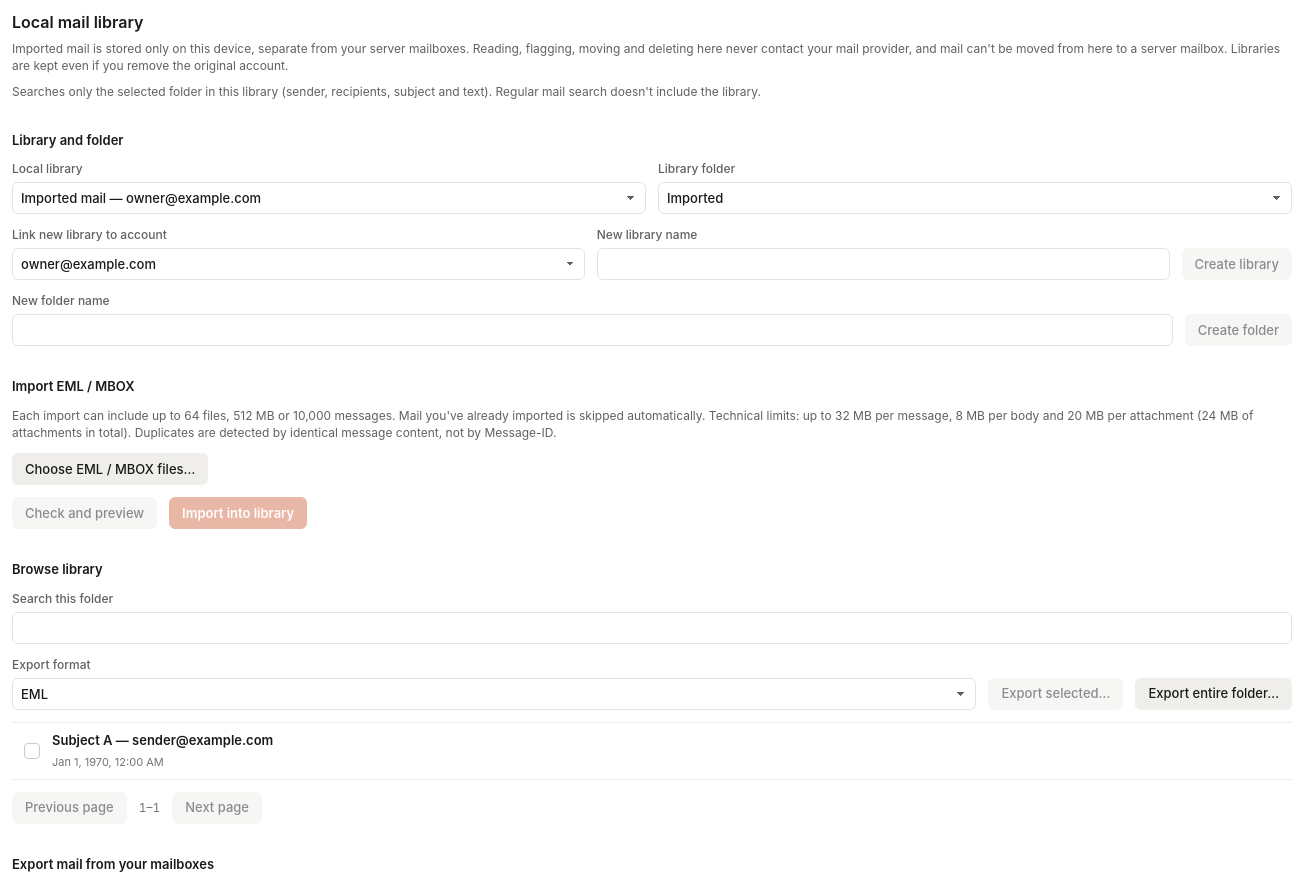
Test: Local mail archive browser › performs local flags/moves, confirms deletion, and clears deleted message selection
Later steps or results of the test are not shown.
Click the button "Subject A — sender@example.com Jan 1, 1970, 12:00 AM" at (82, 740), box [52,723,1292,779]
(page scrolled)
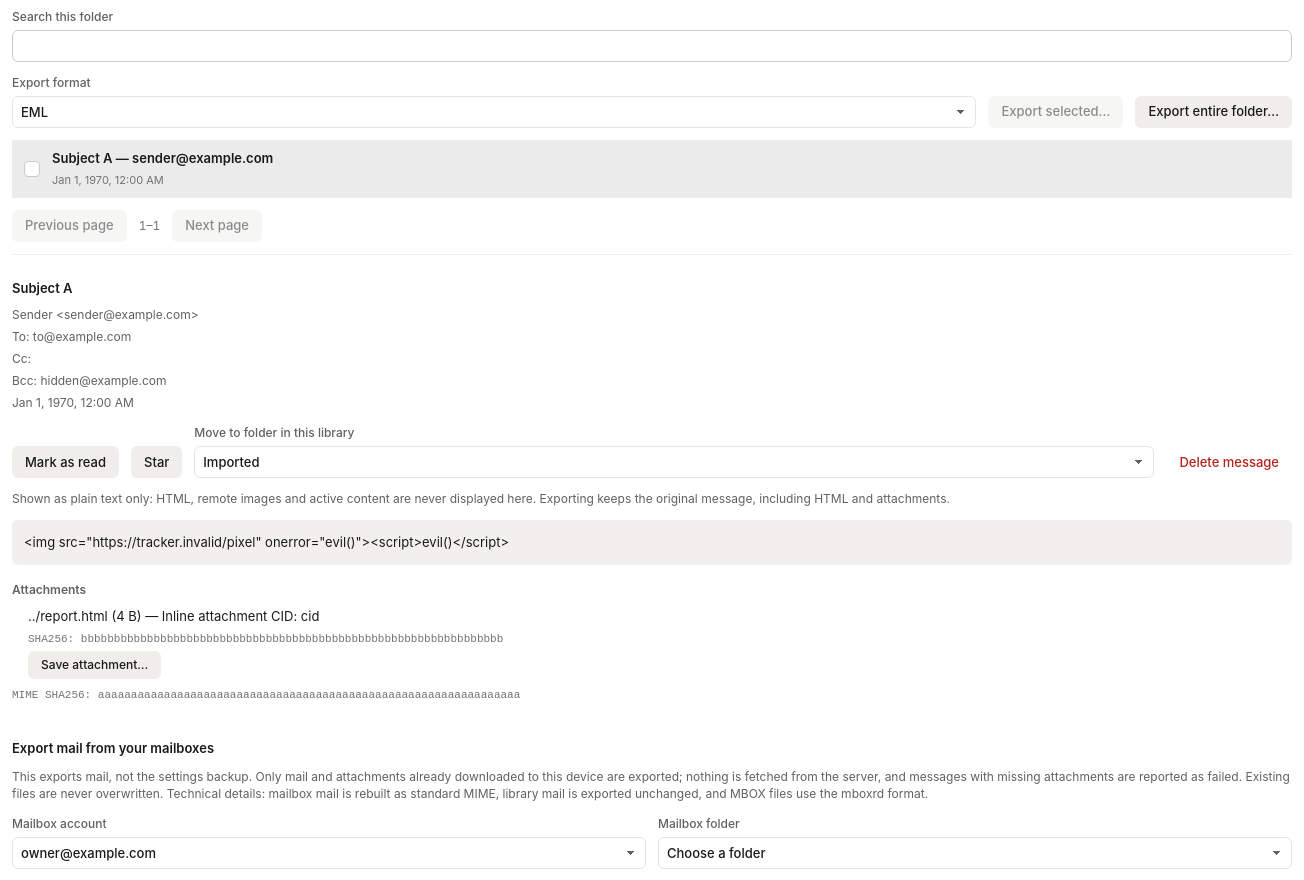
Now the element named "Selected message" is shown, box [12,254,1292,708]
Select "Other local folder" in the dropdown labelled "Move to folder in this library" at (674, 462), box [194,446,1154,478]
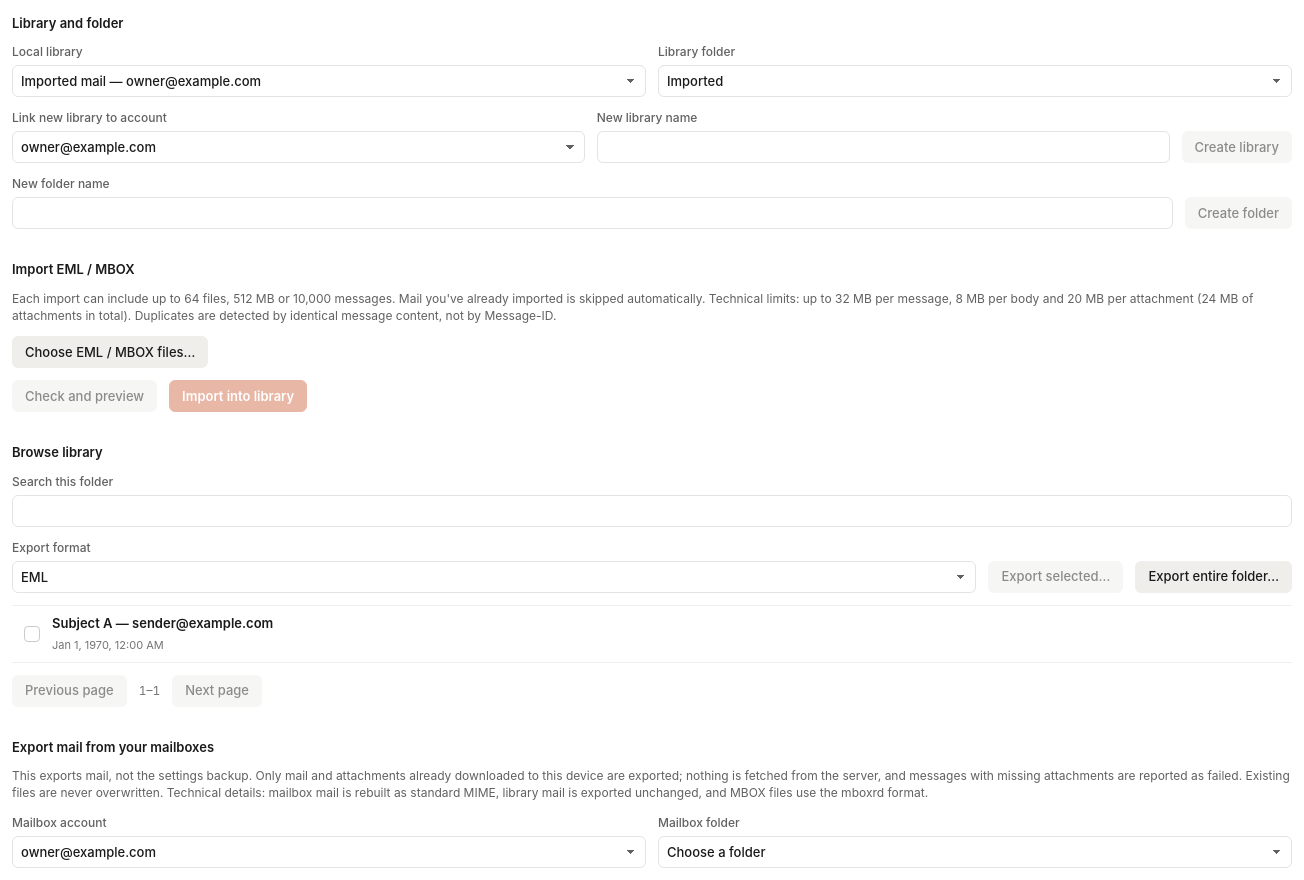
Expected: the element "Browse library" is enabled, [12,444,1292,707]
Click the button "Subject A — sender@example.com Jan 1, 1970, 12:00 AM" at (82, 623), box [52,606,1292,662]
(page scrolled)
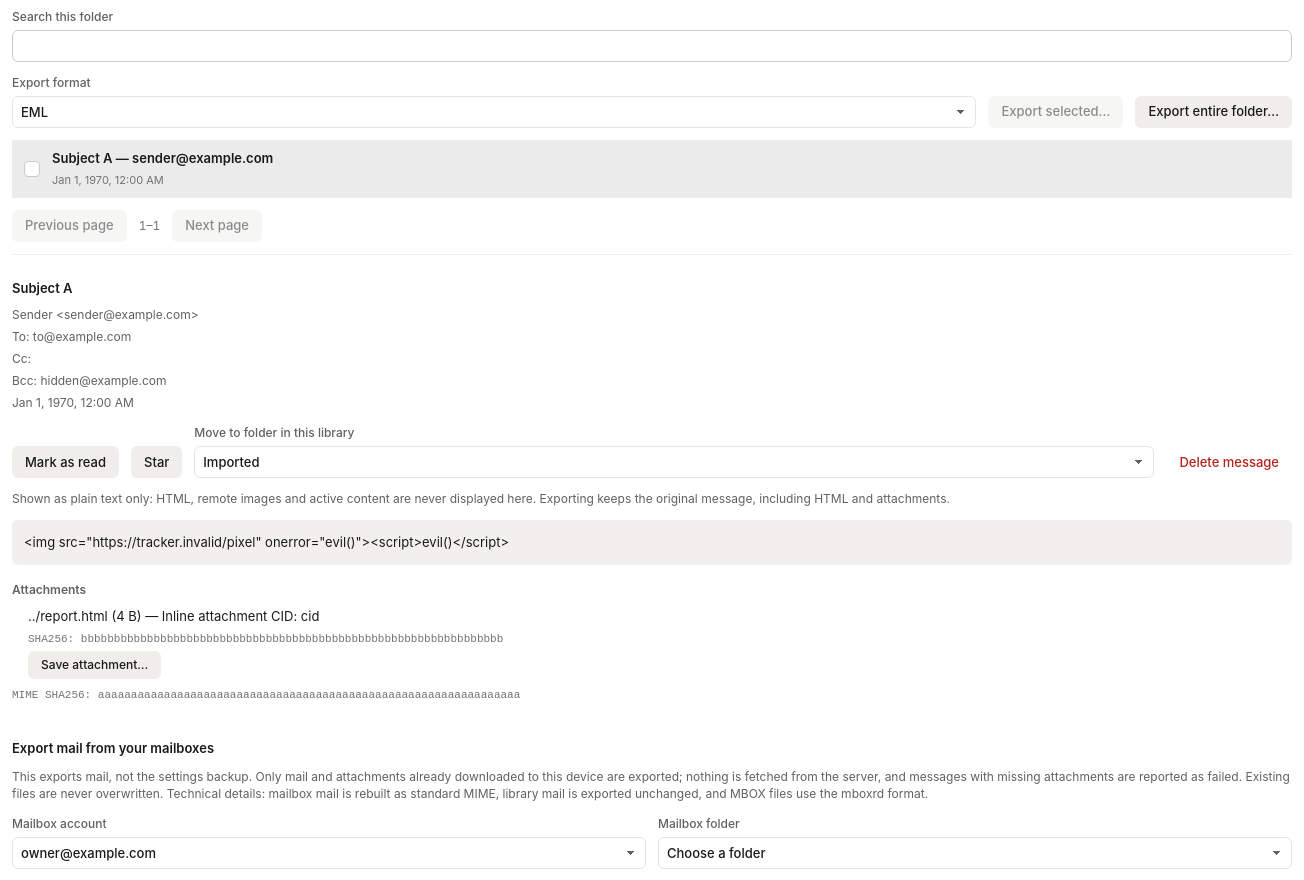
Now the element named "Selected message" is shown, box [12,254,1292,708]
